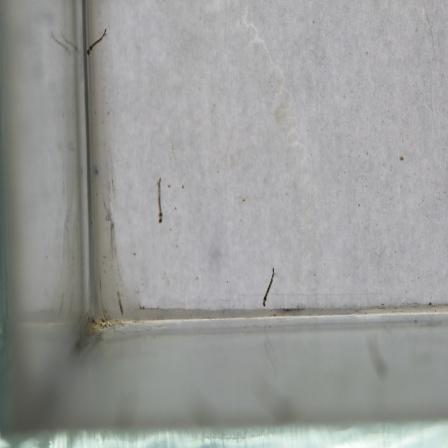Jentik-Nyamuk: (151, 175, 169, 228), (83, 24, 110, 58), (259, 263, 278, 308)
